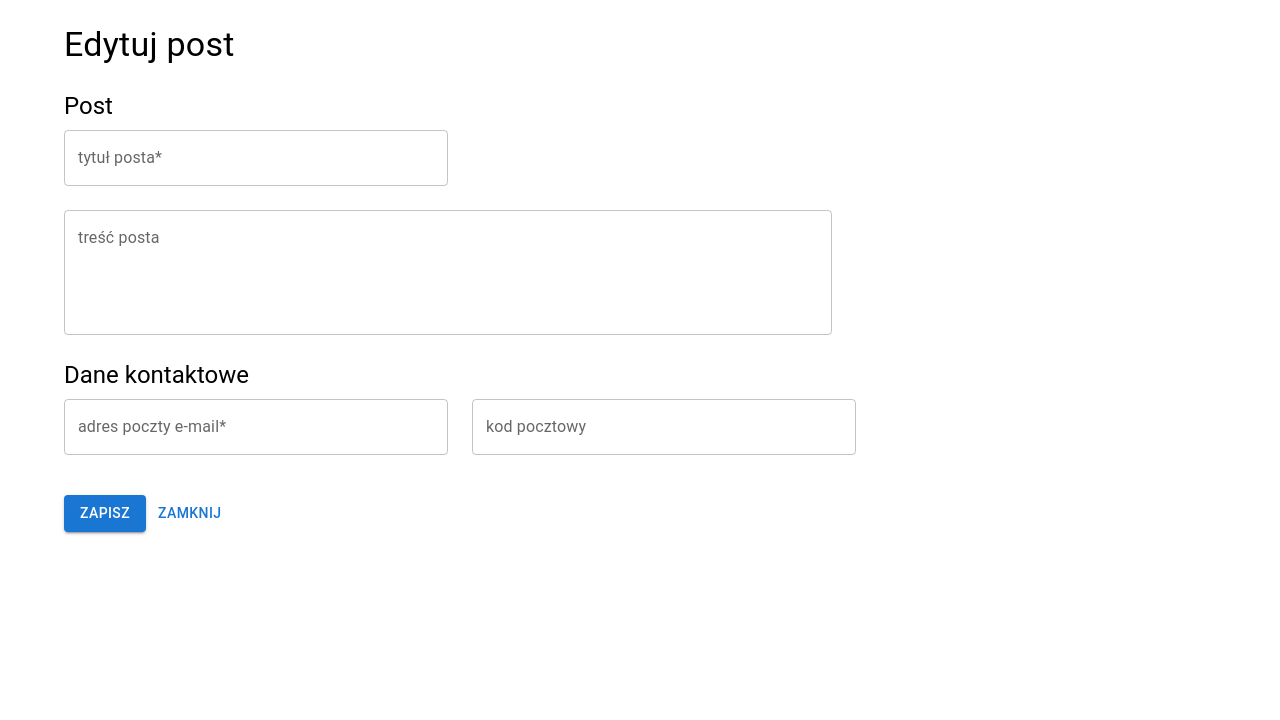
Test: saving post › saves correctly with only required data
The image size is (1280, 720).
Type "dog" into the field labelled "tytuł posta*" at coordinates (256, 158), box [64, 130, 448, 186]
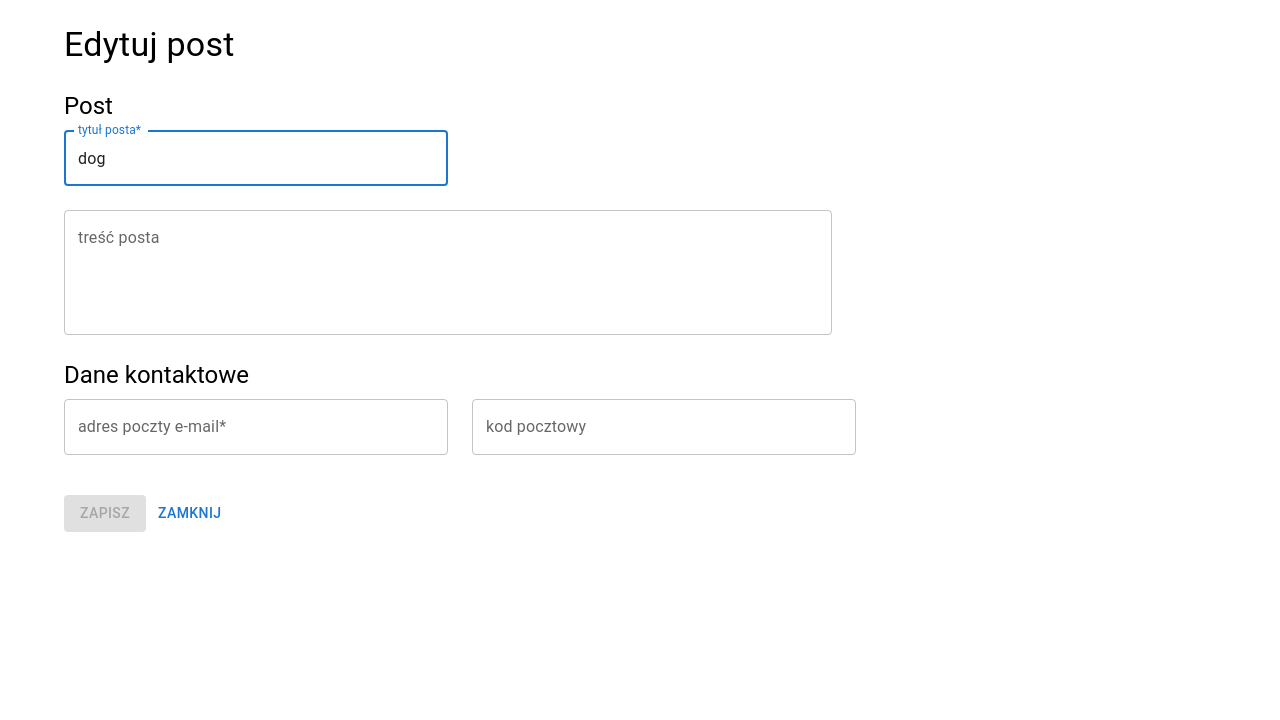
Type "doge@doge.com" into the field labelled "adres poczty e-mail*" at coordinates (256, 427), box [64, 399, 448, 455]
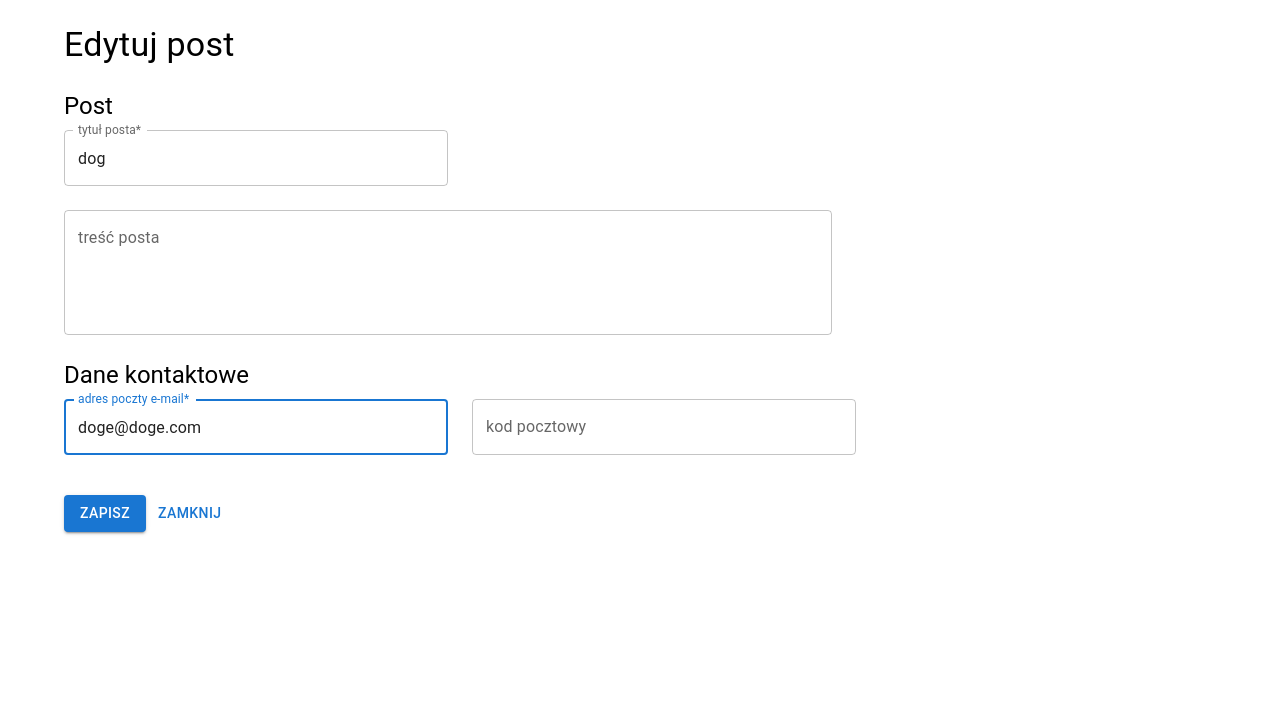
Click the button "zapisz" at coordinates (105, 513), box [64, 495, 146, 532]
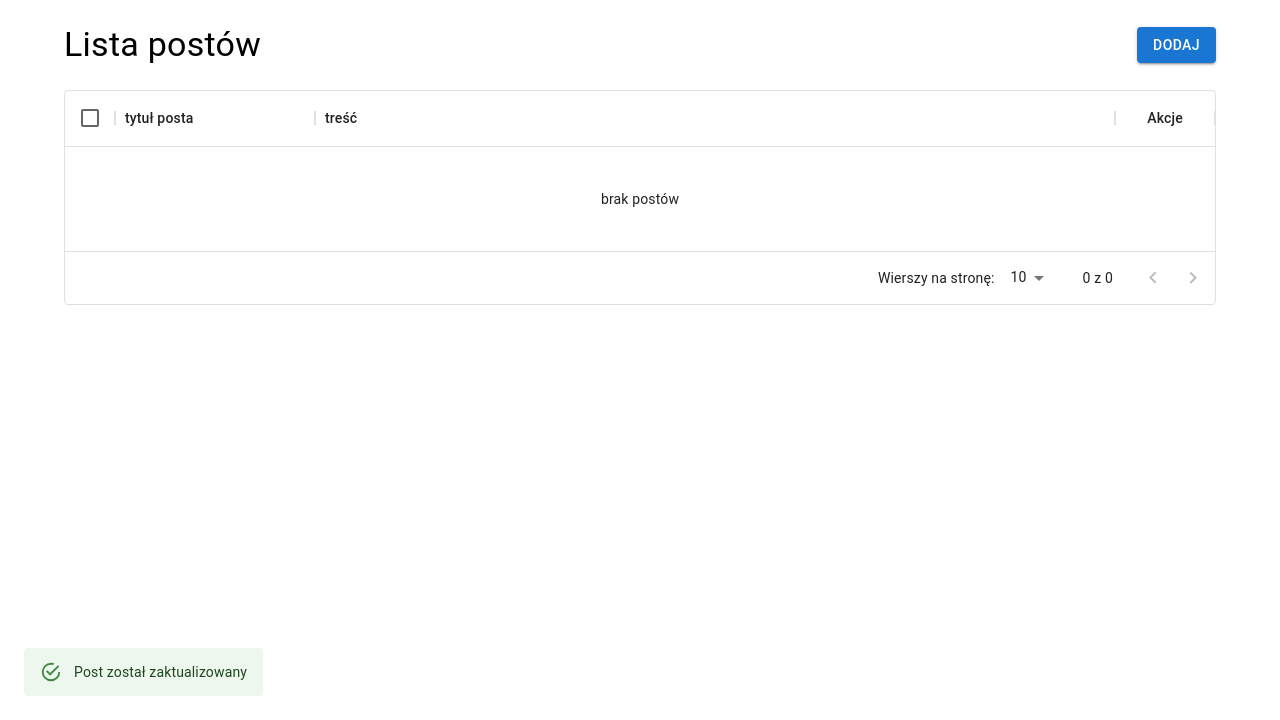
Now the text "Post został zaktualizowany" is shown, box [74, 664, 247, 680]
